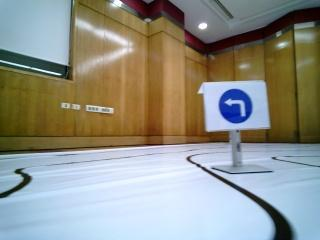left: (207, 85, 263, 127)
